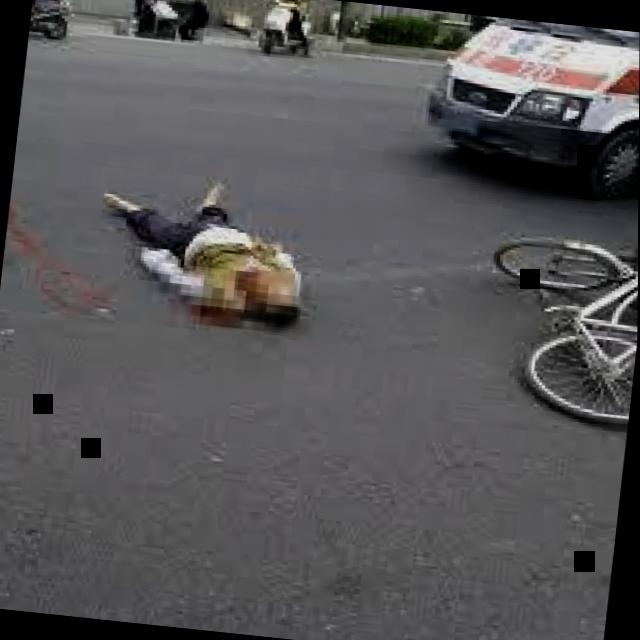Fall-Detected: (67, 144, 329, 333)
